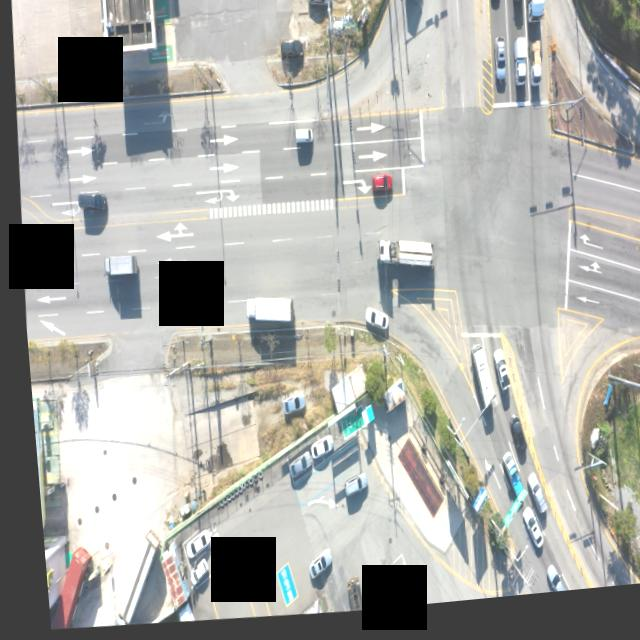car: (511, 514, 534, 558), (516, 481, 538, 525), (484, 358, 503, 405), (500, 424, 519, 467), (297, 553, 322, 585), (174, 533, 199, 562), (73, 192, 104, 215), (531, 573, 554, 603), (358, 313, 382, 340), (335, 479, 359, 506), (280, 459, 304, 486), (300, 440, 324, 465), (177, 562, 198, 590), (275, 397, 299, 420), (277, 42, 303, 63), (493, 46, 505, 89), (291, 134, 311, 152), (366, 181, 387, 198), (305, 0, 325, 13), (488, 0, 502, 9)
medium_truck: (99, 529, 150, 626), (368, 243, 428, 279), (242, 300, 290, 333), (98, 255, 133, 280), (521, 0, 546, 32), (333, 581, 354, 618)
small_bus: (463, 352, 491, 419)
small_truck: (491, 459, 516, 508), (509, 48, 527, 95), (523, 47, 540, 95), (511, 0, 527, 9), (401, 0, 424, 5)
